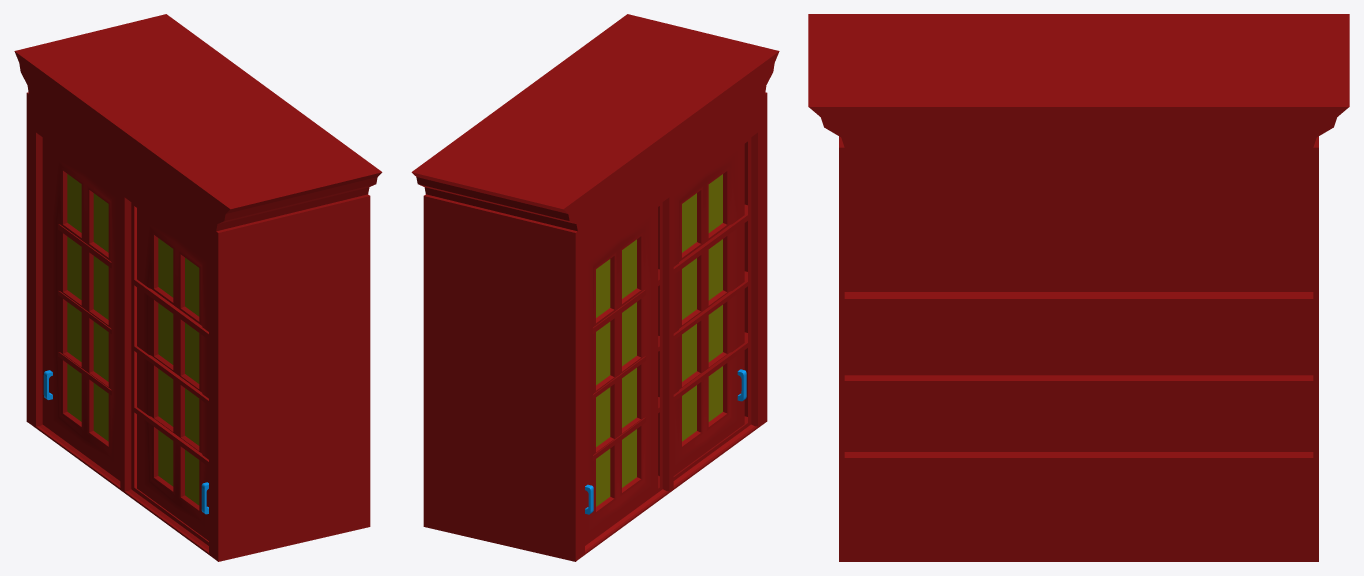
File: tiroirduhaut.fbx
The picture shows the model from 3 angles, left to right: view 1: azimuth 30°, elevation 25°; view 2: azimuth 150°, elevation 25°; view 3: azimuth 270°, elevation 25°; orthographic projection. The views are drawn at different scales.
Visible parts, largest first — view 1: tiroirduhaut; view 2: tiroirduhaut; view 3: tiroirduhaut.
Part boxes in pixels (<box>): tiroirduhaut: <box>14,14,382,561</box>; tiroirduhaut: <box>411,14,779,561</box>; tiroirduhaut: <box>808,14,1349,561</box>.
Bounding box in the file's own units: 48.62 × 111 × 120.
